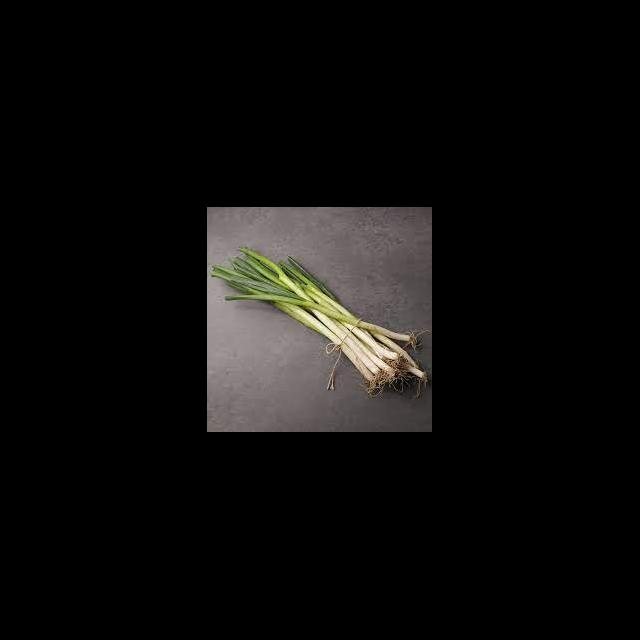green_onion: (213, 248, 428, 392)
